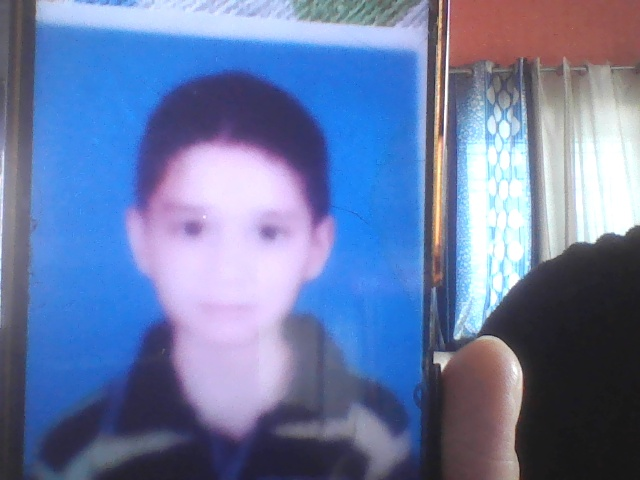fake: (127, 67, 341, 371)
